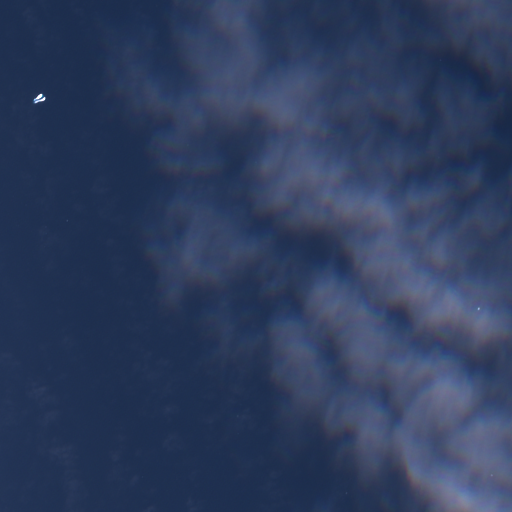Iceberg: (33, 93, 45, 103), (477, 307, 479, 309)
